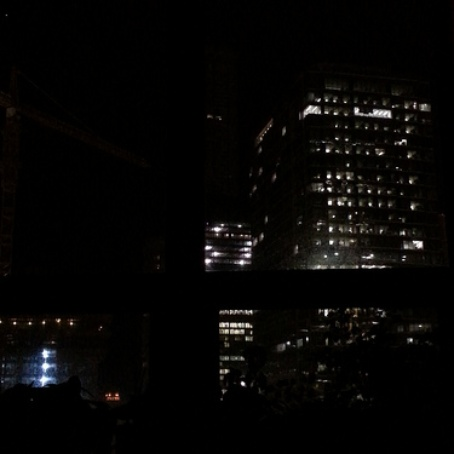building: (252, 85, 427, 356), (170, 170, 258, 406)
